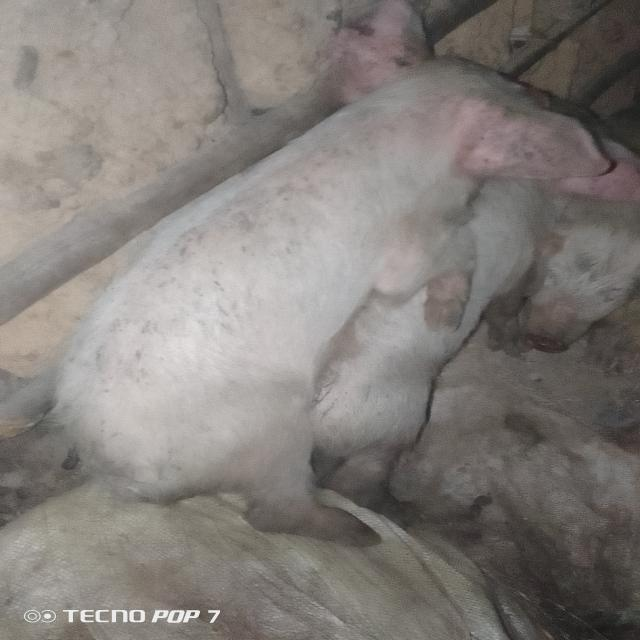pig: (1, 0, 640, 580)
